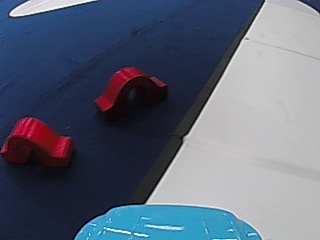bridge: (89, 63, 171, 120), (0, 115, 76, 171)
